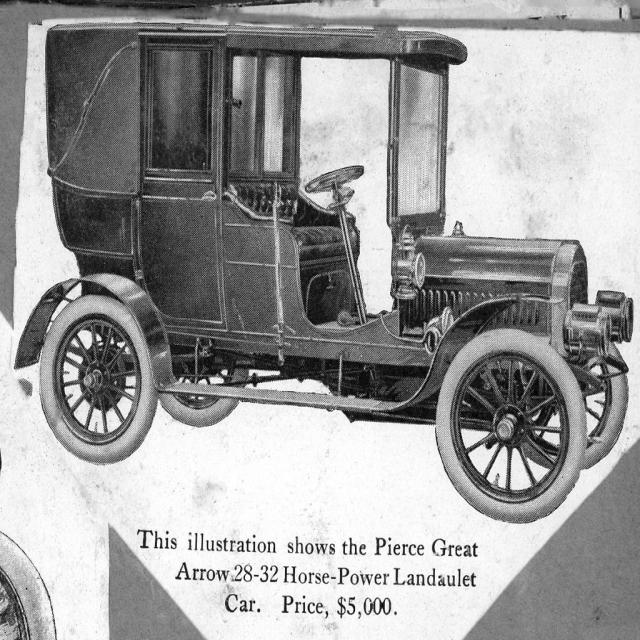car: (10, 51, 622, 519)
